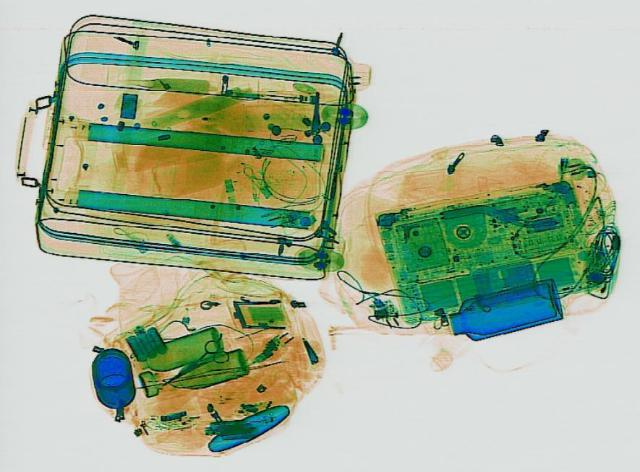Scissors: (150, 335, 238, 394)
